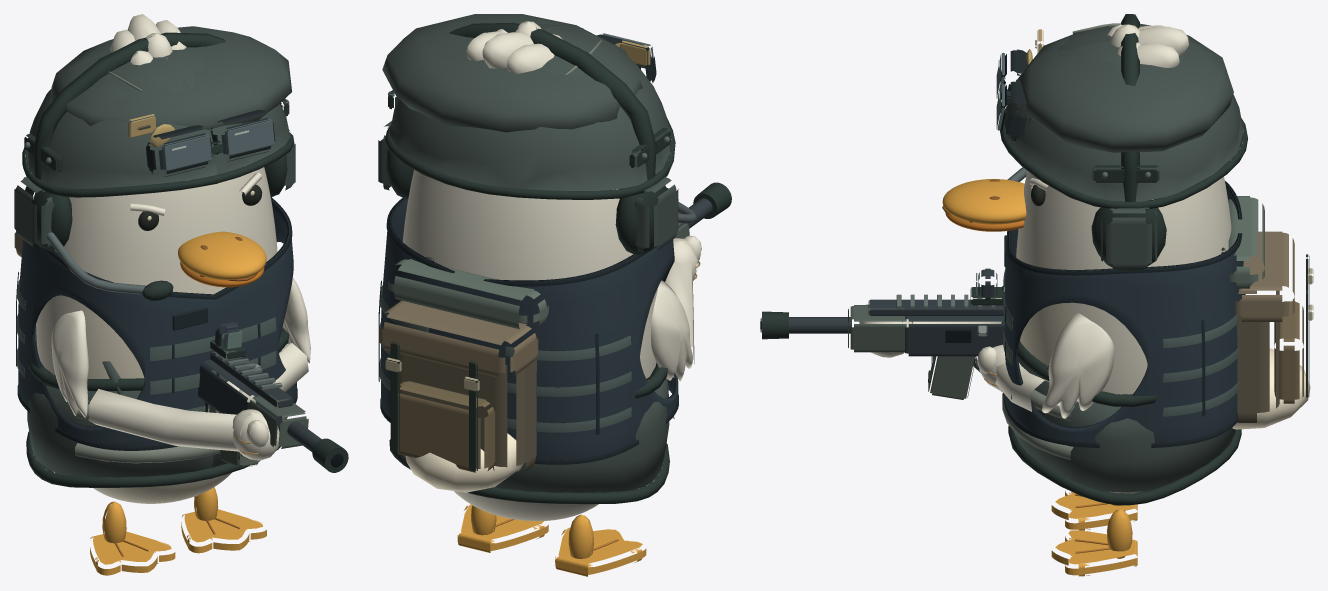
The model's file is goose-fitted.glb.
3 renders of one model, left to right at view 1: azimuth 30°, elevation 25°; view 2: azimuth 150°, elevation 25°; view 3: azimuth 270°, elevation 25°, orthographic. The views are drawn at different scales.
Visible parts, largest first — view 1: goose_vest_mesh, goose_torso_mesh, goose_helmet_mesh, goose_weapon_mesh, goose_beret_mesh, goose_vestPadded_mesh, goose_headset_mesh, goose_goggles_mesh, goose_beak_mesh, goose_leftArm_mesh, goose_leftFoot_mesh, goose_rightFoot_mesh (+3 smaller); view 2: goose_vest_mesh, goose_pack_mesh, goose_helmet_mesh, goose_torso_mesh, goose_beret_mesh, goose_vestPadded_mesh, goose_headset_mesh, goose_weapon_mesh, goose_leftFoot_mesh, goose_leftArm_mesh, goose_tail_mesh, goose_crestSwept_mesh (+2 smaller); view 3: goose_vest_mesh, goose_beret_mesh, goose_torso_mesh, goose_weapon_mesh, goose_helmet_mesh, goose_vestPadded_mesh, goose_pack_mesh, goose_headset_mesh, goose_rightArm_mesh, goose_beak_mesh, goose_rightFoot_mesh, goose_goggles_mesh (+3 smaller).
Boxes of the visible parts, x1=… form: goose_vest_mesh: x1=16, y1=197, x2=297, y2=450; goose_torso_mesh: x1=36, y1=167, x2=277, y2=503; goose_helmet_mesh: x1=22, y1=47, x2=294, y2=197; goose_weapon_mesh: x1=88, y1=322, x2=348, y2=472; goose_beret_mesh: x1=50, y1=26, x2=291, y2=147; goose_vestPadded_mesh: x1=26, y1=325, x2=289, y2=487; goose_headset_mesh: x1=14, y1=32, x2=295, y2=301; goose_goggles_mesh: x1=146, y1=110, x2=275, y2=176; goose_beak_mesh: x1=178, y1=231, x2=266, y2=287; goose_leftArm_mesh: x1=51, y1=310, x2=88, y2=417; goose_leftFoot_mesh: x1=90, y1=501, x2=175, y2=575; goose_rightFoot_mesh: x1=181, y1=487, x2=266, y2=553; goose_vest_mesh: x1=378, y1=198, x2=678, y2=464; goose_pack_mesh: x1=378, y1=257, x2=548, y2=472; goose_helmet_mesh: x1=385, y1=23, x2=675, y2=199; goose_torso_mesh: x1=402, y1=169, x2=657, y2=521; goose_beret_mesh: x1=382, y1=14, x2=642, y2=132; goose_vestPadded_mesh: x1=389, y1=362, x2=674, y2=504; goose_headset_mesh: x1=378, y1=22, x2=696, y2=254; goose_weapon_mesh: x1=665, y1=182, x2=731, y2=363; goose_leftFoot_mesh: x1=555, y1=514, x2=646, y2=576; goose_leftArm_mesh: x1=651, y1=280, x2=693, y2=381; goose_tail_mesh: x1=405, y1=433, x2=523, y2=492; goose_crestSwept_mesh: x1=466, y1=31, x2=554, y2=73; goose_vest_mesh: x1=1001, y1=181, x2=1245, y2=447; goose_beret_mesh: x1=1019, y1=23, x2=1233, y2=152; goose_torso_mesh: x1=1016, y1=171, x2=1231, y2=493; goose_weapon_mesh: x1=760, y1=268, x2=1048, y2=411; goose_helmet_mesh: x1=1000, y1=23, x2=1247, y2=209; goose_vestPadded_mesh: x1=1002, y1=341, x2=1241, y2=505; goose_pack_mesh: x1=1221, y1=196, x2=1313, y2=422; goose_headset_mesh: x1=1007, y1=14, x2=1166, y2=271; goose_rightArm_mesh: x1=1042, y1=313, x2=1114, y2=418; goose_beak_mesh: x1=942, y1=179, x2=1026, y2=231; goose_rightFoot_mesh: x1=1051, y1=509, x2=1137, y2=576; goose_goggles_mesh: x1=996, y1=49, x2=1030, y2=140.
Size of the model in its own units: 1.15 by 2.1 by 2.06.
